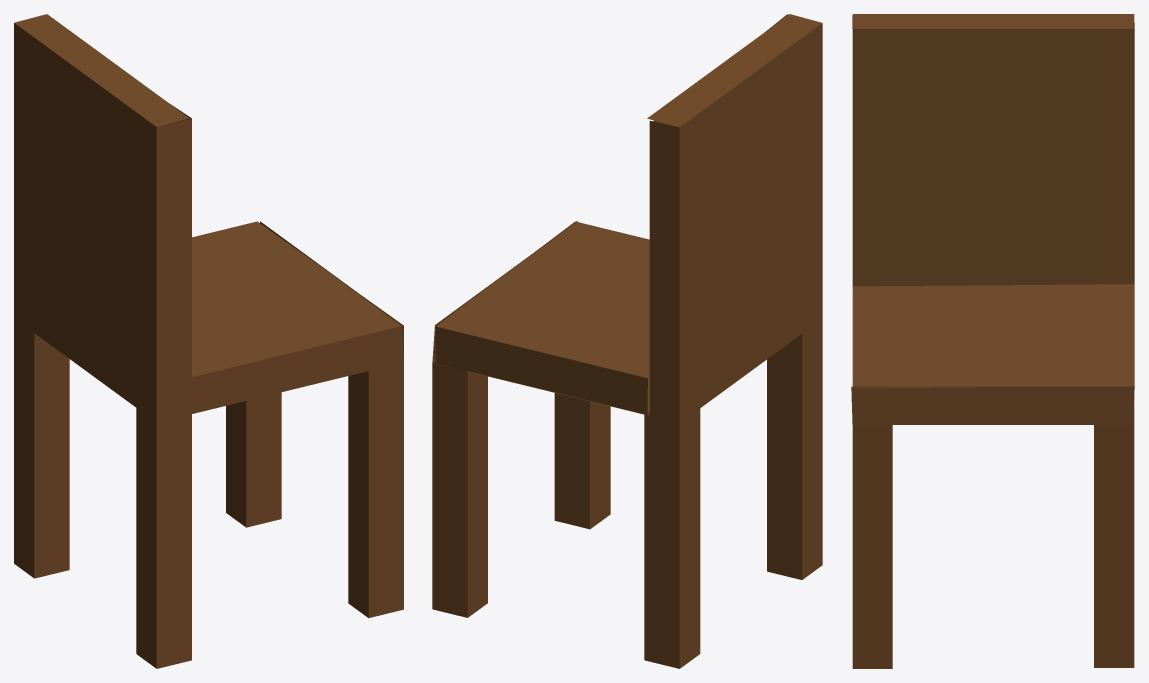
Rendered from chair.dae.
3 views of the same model, side by side, from view 1: azimuth 30°, elevation 25°; view 2: azimuth 150°, elevation 25°; view 3: azimuth 270°, elevation 25° (orthographic).
Parts seen in each view (by area): view 1: Cube; view 2: Cube; view 3: Cube.
Boxes of the visible parts, bbox=[...] form: Cube: bbox=[14, 14, 403, 668]; Cube: bbox=[432, 14, 822, 668]; Cube: bbox=[851, 14, 1134, 668].
Size of the model in its own units: 0.875 by 0.8797 by 1.84.
